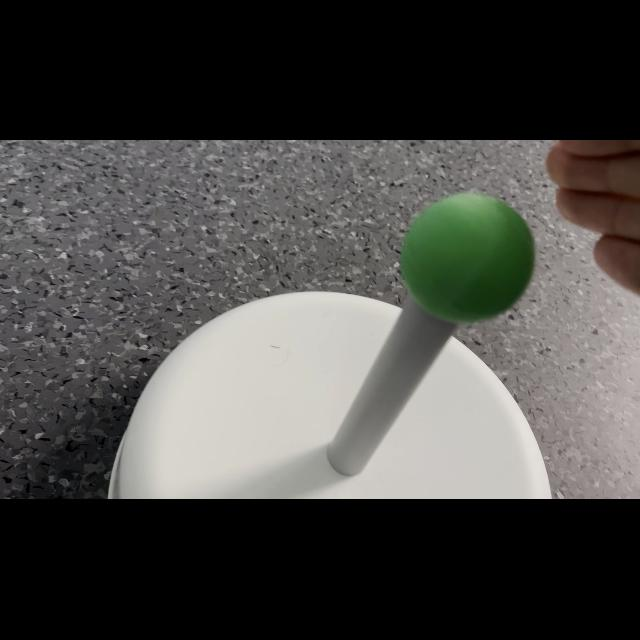objects: (394, 188, 540, 322)
